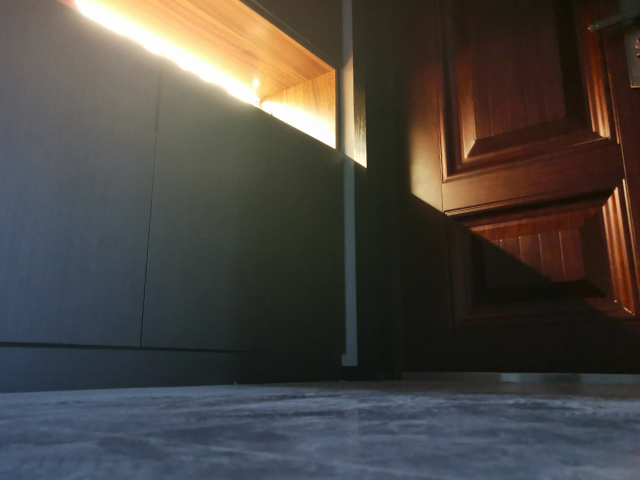cabinet: (1, 1, 349, 396)
